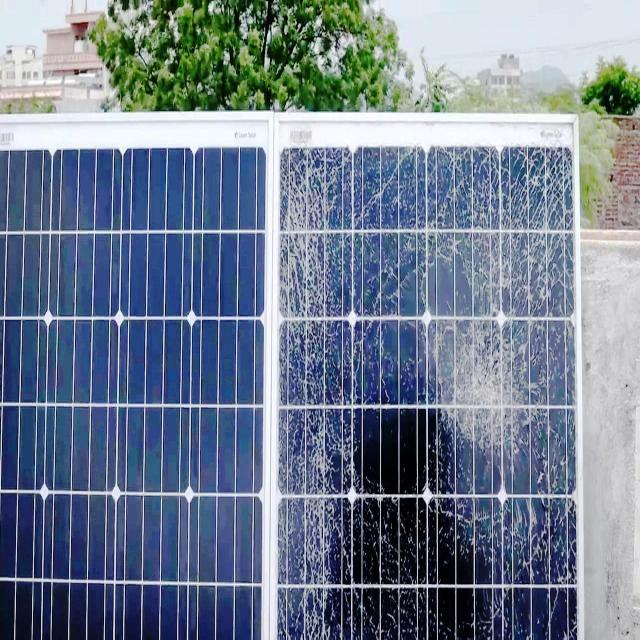faulty: (272, 121, 582, 638)
no faulty: (0, 119, 268, 640)
